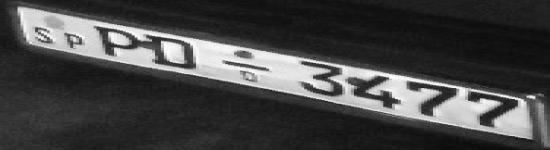-: (218, 60, 283, 72)
3: (295, 60, 347, 97)
4: (350, 72, 405, 110)
7: (463, 89, 524, 131), (407, 80, 463, 122)
D: (145, 36, 202, 70)
P: (92, 24, 146, 58), (57, 31, 93, 50)
S: (24, 25, 62, 45)
